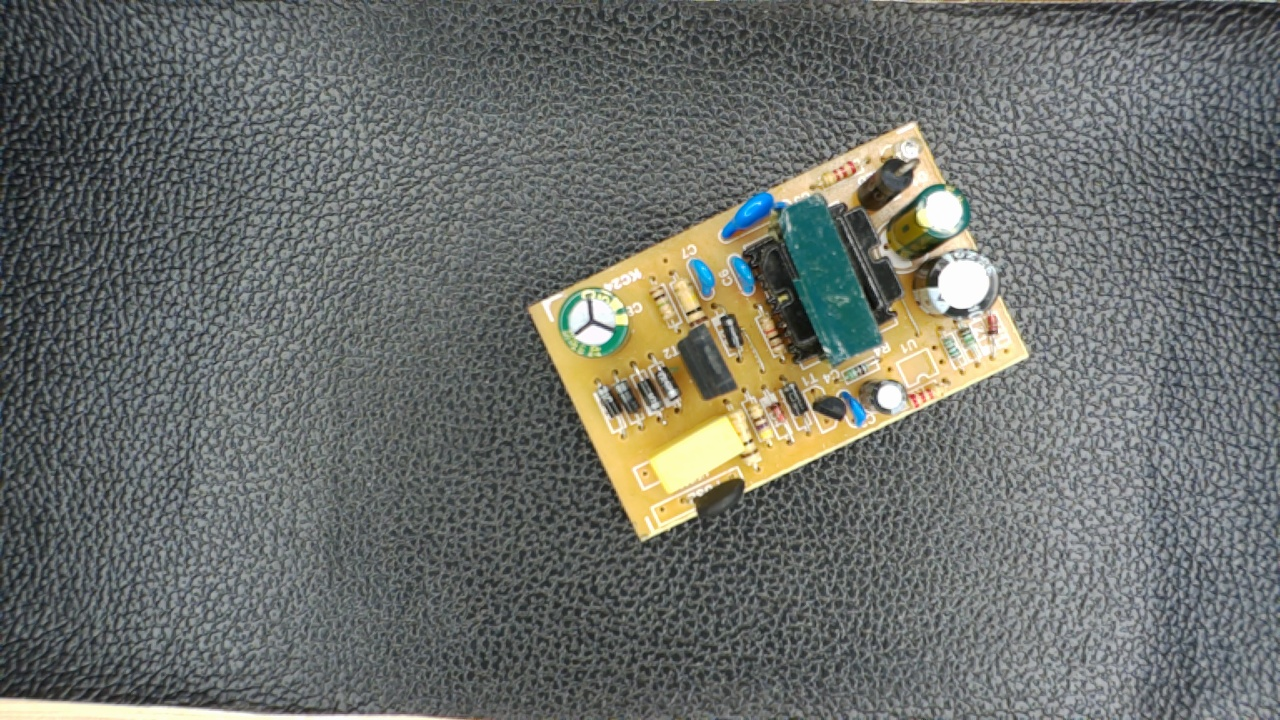fuse: (669, 470, 758, 522)
hv_capacitor: (551, 287, 638, 360)
mov: (714, 188, 789, 240)
